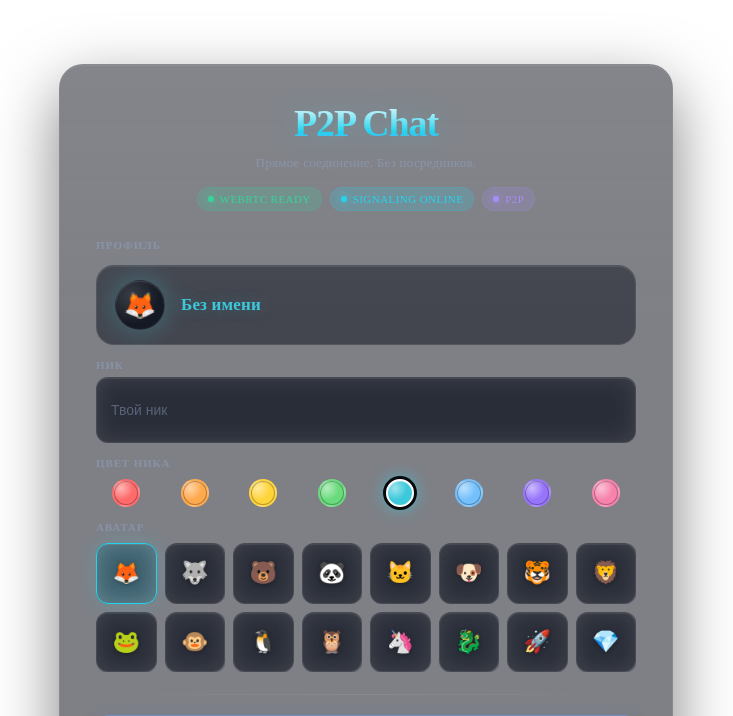
Test: Lobby › после ввода валидного ника — кнопка активна
This screenshot has width=733, height=716.
In the field labelled "Ник": [366, 410] box [96,377,636,443], type "Никита"
(page scrolled)
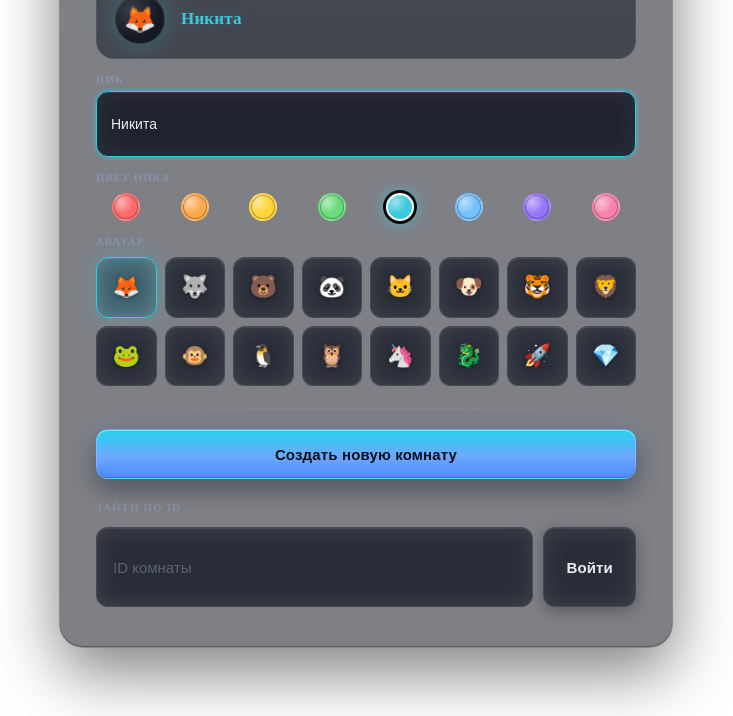
Now the button "Создать новую комнату" is enabled, box [96,429,636,479]
